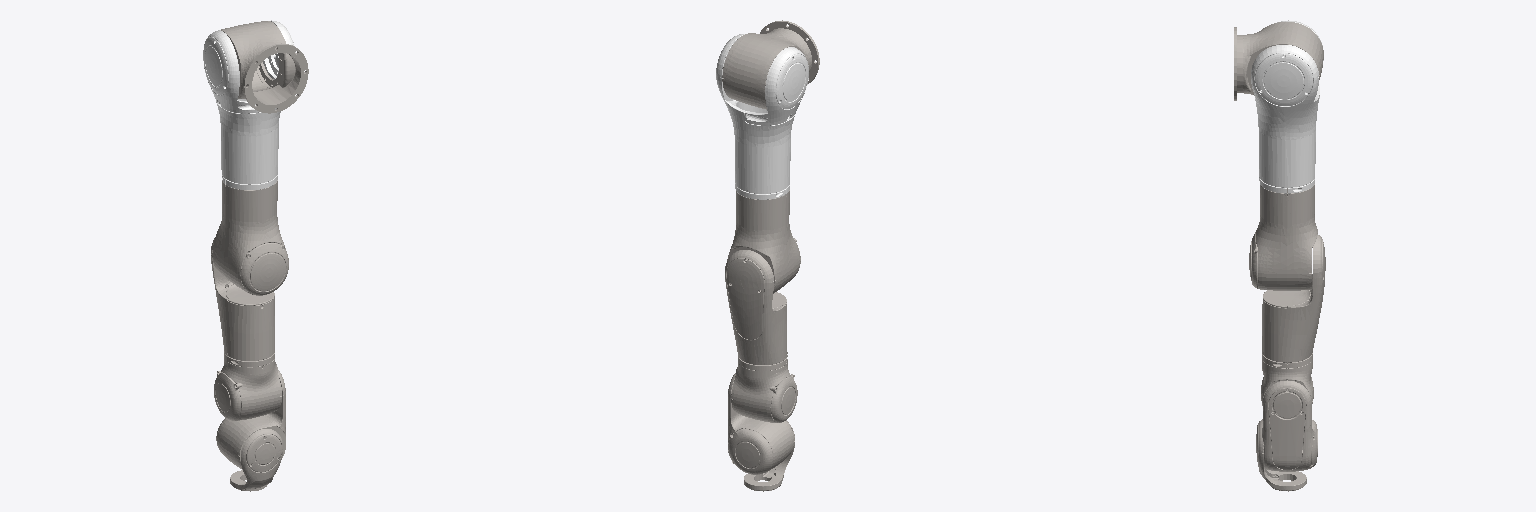
robot.urdf — left_arm:
<?xml version="1.0" encoding="utf-8"?>
<robot name="left_arm">
  <link name="base_link">
    <inertial>
      <origin xyz="-0.00389758138251344 0.000795125518273754 0.281219418291164" rpy="0 0 0" />
      <mass value="2.55167575122519" />
      <inertia ixx="0.0255567076503664" ixy="2.28972108058705E-06" ixz="0.000135983512760512" iyy="0.0181757596876781" iyz="5.10084221931118E-06" izz="0.0131569874399651" />
    </inertial>
    <visual>
      <origin xyz="0 0 0" rpy="0 0 0" />
      <geometry>
        <mesh filename="package://ia_robot_unlimted/meshes/base_link_body.STL" />
      </geometry>
      <material name="">
        <color rgba="1 1 1 1" />
      </material>
    </visual>
    <collision>
      <origin xyz="0 0 0" rpy="0 0 0" />
      <geometry>
        <mesh filename="package://ia_robot_unlimted/meshes/base_link_body.STL" />
      </geometry>
    </collision>
  </link>
  <link name="llink1">
    <inertial>
      <origin xyz="0.00161896341598253 5.37405468570284E-07 0.0627030571106734" rpy="0 0 0" />
      <mass value="3.28000" />
      <inertia ixx="0.00674152114325985" ixy="-1.13724950485265E-07" ixz="-0.000291654355438417" iyy="0.00547744964277435" iyz="5.61252041151383E-08" izz="0.00459538103758741" />
    </inertial>
    <visual>
      <origin xyz="0 0 0" rpy="0 0 0" />
      <geometry>
        <mesh filename="package://ia_robot_unlimted/meshes/llink1.STL" />
      </geometry>
      <material name="">
        <color rgba="0.776470588235294 0.756862745098039 0.737254901960784 1" />
      </material>
    </visual>
    <collision>
      <origin xyz="0 0 0" rpy="0 0 0" />
      <geometry>
        <mesh filename="package://ia_robot_unlimted/meshes/llink1.STL" />
      </geometry>
    </collision>
  </link>
  <joint name="ljoint1" type="revolute">
    <origin xyz="0 0.159 0.24" rpy="-1.5707963267949 0 0" />
    <parent link="base_link" />
    <child link="llink1" />
    <axis xyz="0 0 1" />
    <limit lower="-3.14" upper="3.14" effort="300" velocity="1" />
  </joint>
  <link name="llink2">
    <inertial>
      <origin xyz="-0.0681183936854741 8.57597339282146E-07 0.000146095896102457" rpy="0 0 0" />
      <mass value="2.6900" />
      <inertia ixx="0.0071039734066961" ixy="-3.83583466517054E-06" ixz="-0.00291580191868669" iyy="0.0153849511515135" iyz="6.41641677010907E-06" izz="0.0161147853774958" />
    </inertial>
    <visual>
      <origin xyz="0 0 0" rpy="0 0 0" />
      <geometry>
        <mesh filename="package://ia_robot_unlimted/meshes/llink2.STL" />
      </geometry>
      <material name="">
        <color rgba="1 1 1 1" />
      </material>
    </visual>
    <collision>
      <origin xyz="0 0 0" rpy="0 0 0" />
      <geometry>
        <mesh filename="package://ia_robot_unlimted/meshes/llink2.STL" />
      </geometry>
    </collision>
  </link>
  <joint name="ljoint2" type="revolute">
    <origin xyz="0 0 0.085" rpy="-1.65806278939461 0 -1.57079632679489" />
    <parent link="llink1" />
    <child link="llink2" />
    <axis xyz="0 0 1" />
    <limit lower="-0.1" upper="3.14" effort="200" velocity="1" />
  </joint>
  <link name="llink3">
    <inertial>
      <origin xyz="-3.33179115182686E-07 0.00292149423829063 0.101329580562293" rpy="0 0 0" />
      <mass value="2.5952428397314" />
      <inertia ixx="0.00893708870487144" ixy="-2.93215676600409E-08" ixz="-5.33872243355228E-09" iyy="0.00945086108505634" iyz="0.000159088947660154" izz="0.00453304999443677" />
    </inertial>
    <visual>
      <origin xyz="0 0 0" rpy="0 0 0" />
      <geometry>
        <mesh filename="package://ia_robot_unlimted/meshes/llink3.STL" />
      </geometry>
      <material name="">
        <color rgba="0.776470588235294 0.756862745098039 0.737254901960784 1" />
      </material>
    </visual>
    <collision>
      <origin xyz="0 0 0" rpy="0 0 0" />
      <geometry>
        <mesh filename="package://ia_robot_unlimted/meshes/llink3.STL" />
      </geometry>
    </collision>
  </link>
  <joint name="ljoint3" type="revolute">
    <origin xyz="-0.224999999999999 0 0" rpy="1.57079632679498 -1.48352986419519 -1.57079632679498" />
    <parent link="llink2" />
    <child link="llink3" />
    <axis xyz="0 0 1" />
    <limit lower="-3.14" upper="3.14" effort="200" velocity="1" />
  </joint>
  <link name="llink4">
    <inertial>
      <origin xyz="0.0800785384992342 -5.16291551304511E-06 -0.0197422374145132" rpy="0 0 0" />
      <mass value="1.800" />
      <inertia ixx="0.00317428399236882" ixy="-2.53192673842825E-07" ixz="0.00158267727456873" iyy="0.00775114079895891" iyz="1.70026112295155E-07" izz="0.00820069206719529" />
    </inertial>
    <visual>
      <origin xyz="0 0 0" rpy="0 0 0" />
      <geometry>
        <mesh filename="package://ia_robot_unlimted/meshes/llink4.STL" />
      </geometry>
      <material name="">
        <color rgba="0.776470588235294 0.756862745098039 0.737254901960784 1" />
      </material>
    </visual>
    <collision>
      <origin xyz="0 0 0" rpy="0 0 0" />
      <geometry>
        <mesh filename="package://ia_robot_unlimted/meshes/llink4.STL" />
      </geometry>
    </collision>
  </link>
  <joint name="ljoint4" type="revolute">
    <origin xyz="0 -0.0474999999999998 0.145" rpy="1.5707963267949 -1.5707963267949 0" />
    <parent link="llink3" />
    <child link="llink4" />
    <axis xyz="0 0 1" />
    <limit lower="-2.2" upper="2.2" effort="200" velocity="1" />
  </joint>
  <link name="llink5">
    <inertial>
      <origin xyz="1.77232963344612E-06 0.00267037393924771 0.043958262348192" rpy="0 0 0" />
      <mass value="1.50318980268963" />
      <inertia ixx="0.00190777979425661" ixy="9.44532364833122E-09" ixz="6.51415669577866E-08" iyy="0.00217869446494916" iyz="-6.2295657537771E-05" izz="0.00156524552319529" />
    </inertial>
    <visual>
      <origin xyz="0 0 0" rpy="0 0 0" />
      <geometry>
        <mesh filename="package://ia_robot_unlimted/meshes/llink5.STL" />
      </geometry>
      <material name="">
        <color rgba="0.776470588235294 0.756862745098039 0.737254901960784 1" />
      </material>
    </visual>
    <collision>
      <origin xyz="0 0 0" rpy="0 0 0" />
      <geometry>
        <mesh filename="package://ia_robot_unlimted/meshes/llink5.STL" />
      </geometry>
    </collision>
  </link>
  <joint name="ljoint5" type="revolute">
    <origin xyz="0.1865 0 -0.0474999999999993" rpy="1.57079632679489 -1.5707963267949 1.5707963267949" />
    <parent link="llink4" />
    <child link="llink5" />
    <axis xyz="0 0 1" />
    <limit lower="-3.14" upper="3.14" effort="100" velocity="1" />
  </joint>
  <link name="llink6">
    <inertial>
      <origin xyz="0.0694647309341223 -0.0021762359373486 0.0215304836130146" rpy="0 0 0" />
      <mass value="1.641343959001" />
      <inertia ixx="0.00197201688320841" ixy="9.87036585379211E-05" ixz="0.000723531988916113" iyy="0.00404335560060063" iyz="-6.26835698901434E-05" izz="0.0037177890381474" />
    </inertial>
    <visual>
      <origin xyz="0 0 0" rpy="0 0 0" />
      <geometry>
        <mesh filename="package://ia_robot_unlimted/meshes/llink6.STL" />
      </geometry>
      <material name="">
        <color rgba="0.776470588235294 0.756862745098039 0.737254901960784 1" />
      </material>
    </visual>
    <collision>
      <origin xyz="0 0 0" rpy="0 0 0" />
      <geometry>
        <mesh filename="package://ia_robot_unlimted/meshes/llink6.STL" />
      </geometry>
    </collision>
  </link>
  <joint name="ljoint6" type="revolute">
    <origin xyz="0 0 0.0595" rpy="-1.5708 -1.5708 0" />
    <parent link="llink5" />
    <child link="llink6" />
    <axis xyz="0 0 1" />
    <limit lower="-2.2" upper="2.2" effort="200" velocity="1" />
  </joint>
  <link name="llink7">
    <inertial>
      <origin xyz="0.0352191139550785 -1.26825356883131E-08 -0.0151810783567745" rpy="0 0 0" />
      <mass value="0.16" />
      <inertia ixx="0.000514392647576555" ixy="1.77525561757236E-09" ixz="0.000292583822583006" iyy="0.000913556589078416" iyz="-2.68232986515202E-09" izz="0.000852648440051081" />
    </inertial>
    <visual>
      <origin xyz="0 0 0" rpy="0 0 0" />
      <geometry>
        <mesh filename="package://ia_robot_unlimted/meshes/llink7.STL" />
      </geometry>
      <material name="">
        <color rgba="0.776470588235294 0.756862745098039 0.737254901960784 1" />
      </material>
    </visual>
    <collision>
      <origin xyz="0 0 0" rpy="0 0 0" />
      <geometry>
        <mesh filename="package://ia_robot_unlimted/meshes/llink7.STL" />
      </geometry>
    </collision>
  </link>
  <joint name="ljoint7" type="revolute">
    <origin xyz="0.095 -0.0415 0" rpy="1.5708 0 0" />
    <parent link="llink6" />
    <child link="llink7" />
    <axis xyz="0 0 1" />
    <limit lower="-1.65" upper="0.65" effort="100" velocity="1" />
  </joint>

  <joint name="ljoint8" type="fixed">
    <origin xyz="0.0765 0 -0.041131" rpy="-1.5707963267949 0 0" />
    <parent link="llink7" />
    <child link="ee_link" />
    <axis xyz="0 0 0" />
  </joint>
  <link name="ee_link">
  </link>
</robot>

--- What the picture shows (computed from the rendered views, not written in the file) ---
The picture shows the robot from 3 angles, left to right: view 1: azimuth 30°, elevation 25°; view 2: azimuth 150°, elevation 25°; view 3: azimuth 270°, elevation 25°; orthographic projection.
Model left_arm with 9 links and 8 joints (7 revolute, 1 fixed), rooted at base_link, posed every joint at zero.
Links seen in each view (by area): view 1: llink2, llink3, llink1, llink4, llink5, llink7, llink6; view 2: llink2, llink4, llink1, llink3, llink6, llink5, llink7; view 3: llink2, llink3, llink4, llink6, llink1, llink7, llink5.
Link boxes in pixels (bbox=[...]): llink2: bbox=[203, 20, 295, 189]; llink3: bbox=[212, 180, 288, 295]; llink1: bbox=[221, 21, 308, 113]; llink4: bbox=[211, 238, 274, 366]; llink5: bbox=[214, 358, 281, 420]; llink7: bbox=[230, 429, 282, 491]; llink6: bbox=[216, 370, 285, 469]; llink2: bbox=[716, 34, 808, 199]; llink4: bbox=[725, 250, 787, 370]; llink1: bbox=[722, 20, 819, 109]; llink3: bbox=[727, 190, 800, 293]; llink6: bbox=[728, 373, 794, 474]; llink5: bbox=[731, 361, 797, 422]; llink7: bbox=[744, 420, 794, 491]; llink2: bbox=[1251, 20, 1323, 193]; llink3: bbox=[1249, 184, 1317, 290]; llink4: bbox=[1262, 234, 1325, 368]; llink6: bbox=[1262, 380, 1317, 471]; llink1: bbox=[1234, 22, 1323, 100]; llink7: bbox=[1256, 419, 1306, 491]; llink5: bbox=[1261, 359, 1313, 405].
Bounding box of the posed robot: 0.1407 × 0.155 × 0.85 m (x, y, z).
7 mesh visuals loaded from 8 distinct referenced files (7 binary STL); not drawn: 1 (reference not matched to a file when rendering).